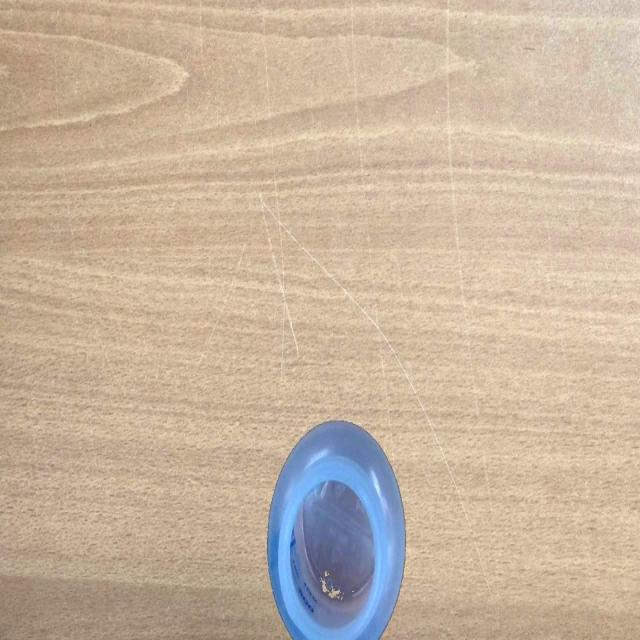bottle: (264, 414, 410, 640)
